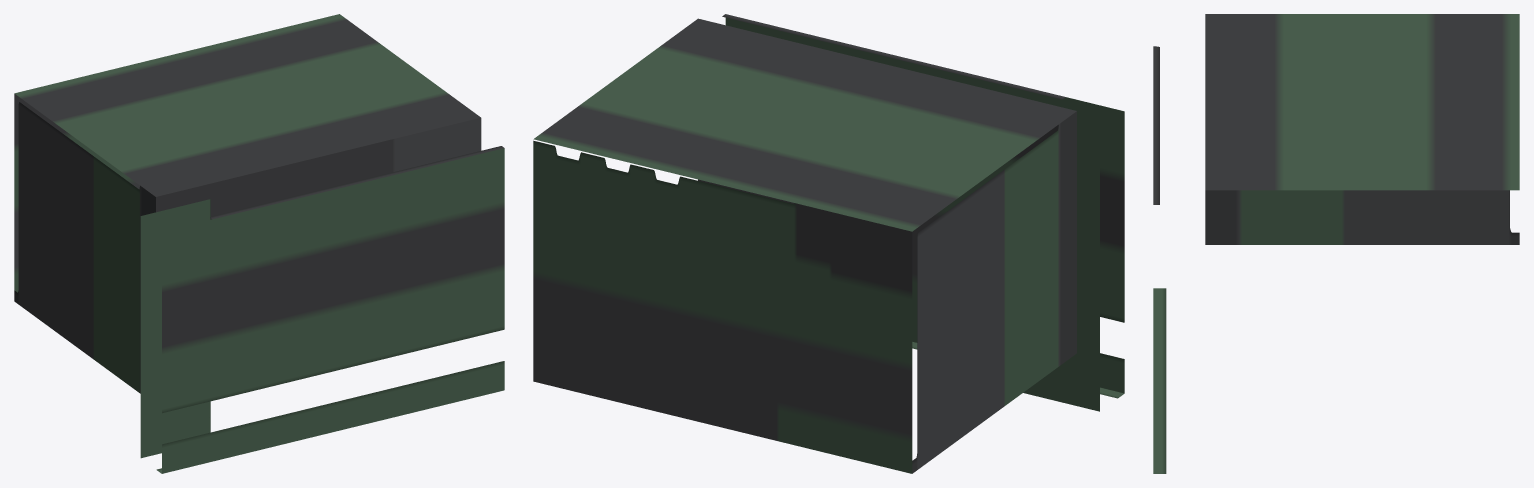
File: section-6.obj
3 views of the same model, side by side, from view 1: azimuth 30°, elevation 25°; view 2: azimuth 150°, elevation 25°; view 3: azimuth 270°, elevation 25° (orthographic). The views are drawn at different scales.
Bounding box in the file's own units: 1.06 × 0.7569 × 0.8862.
